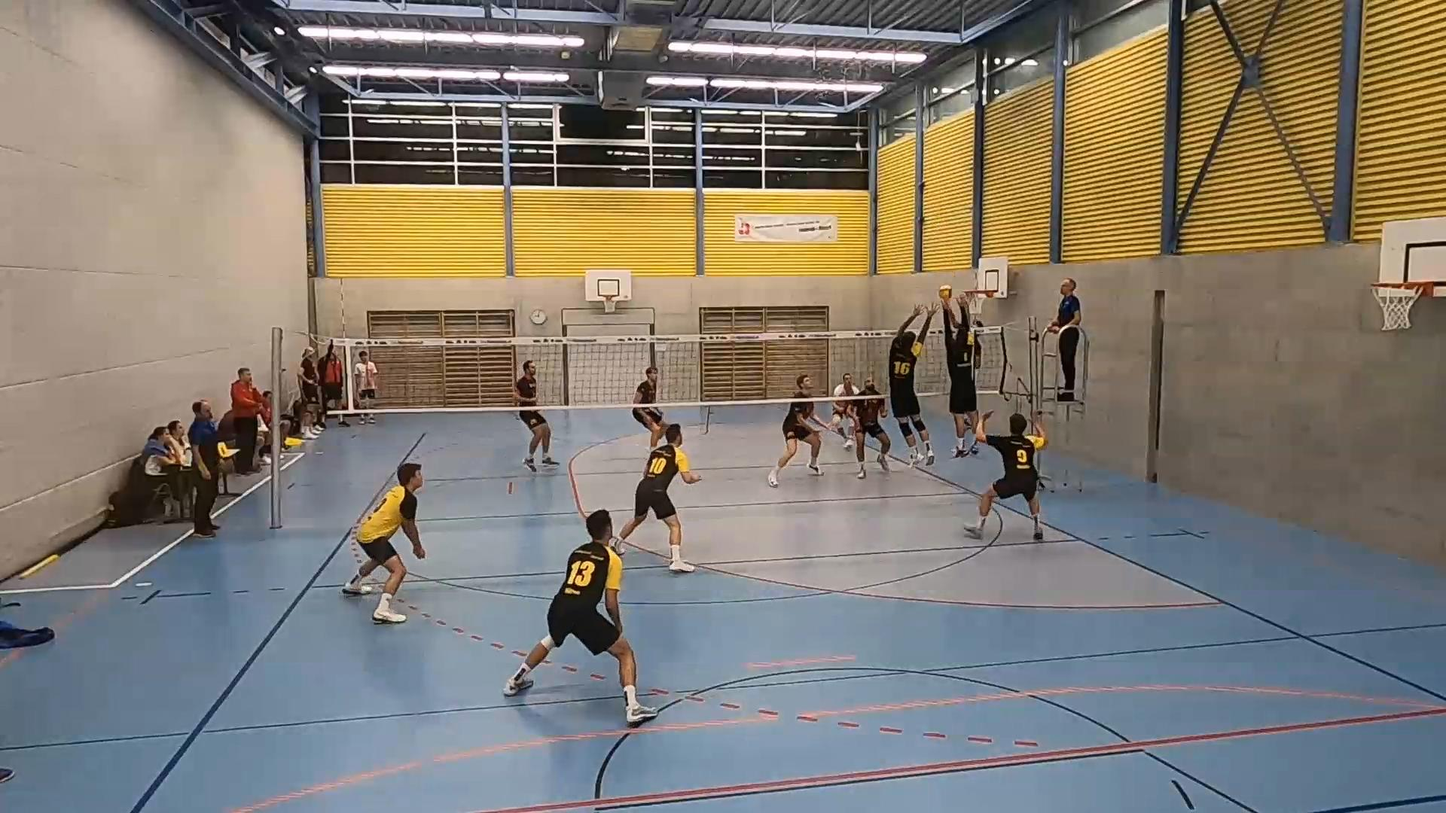Attack: (944, 301, 987, 372)
Block: (887, 296, 946, 471), (939, 295, 986, 463)
Player: (503, 510, 657, 726), (341, 463, 426, 623), (613, 425, 700, 572), (767, 374, 826, 487), (514, 361, 557, 471), (853, 376, 890, 479), (632, 406, 667, 448), (830, 400, 857, 449)
ball: (932, 283, 958, 303)
